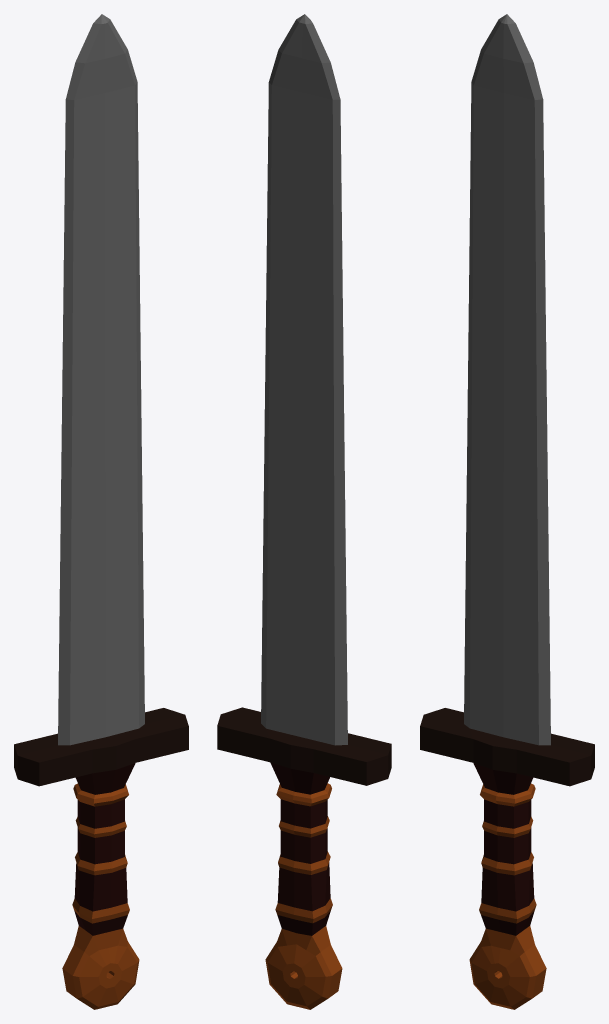
The model's file is Sword.obj.
3 renders of one model, left to right at view 1: azimuth 30°, elevation 25°; view 2: azimuth 150°, elevation 25°; view 3: azimuth 330°, elevation 25°, orthographic.
Parts seen in each view (by area): view 1: Sword_Cylinder; view 2: Sword_Cylinder; view 3: Sword_Cylinder.
Part boxes in pixels (x1=…): Sword_Cylinder: x1=14, y1=14, x2=188, y2=1009; Sword_Cylinder: x1=217, y1=14, x2=391, y2=1009; Sword_Cylinder: x1=420, y1=14, x2=594, y2=1009.
Bounding box in the file's own units: 0.7711 × 4.35 × 0.2286.
